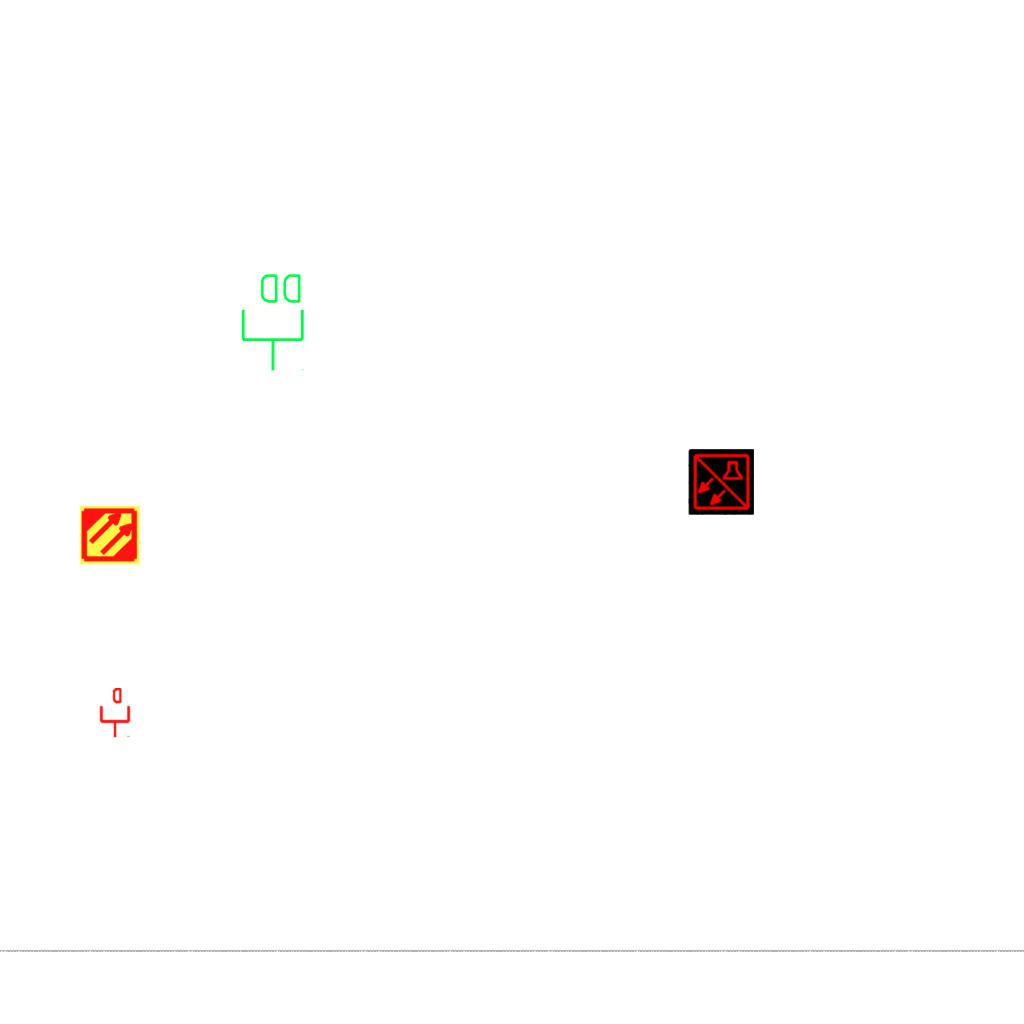ASR_Ansaugrauchmelder: (79, 504, 141, 566)
Datenanschluss_einfach: (98, 688, 132, 738)
Datenanschluss_zweifach: (239, 270, 308, 373)
OKW_Multisensormelder_(Kombination_optischer_Rauch-Kahlenmonoxid_Waerme-Melder): (688, 449, 754, 515)
